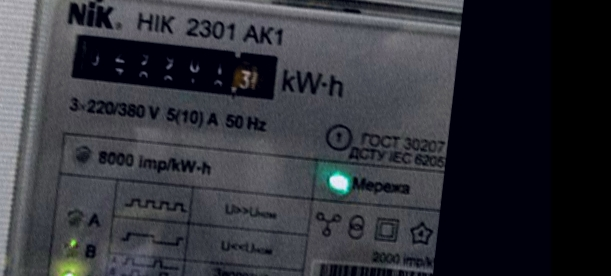0: (185, 49, 202, 75), (85, 44, 103, 67)
1: (210, 52, 226, 77)
2: (110, 44, 128, 65)
3: (236, 66, 251, 90)
9: (160, 48, 177, 71), (136, 45, 150, 68)
screen: (56, 21, 289, 110)
